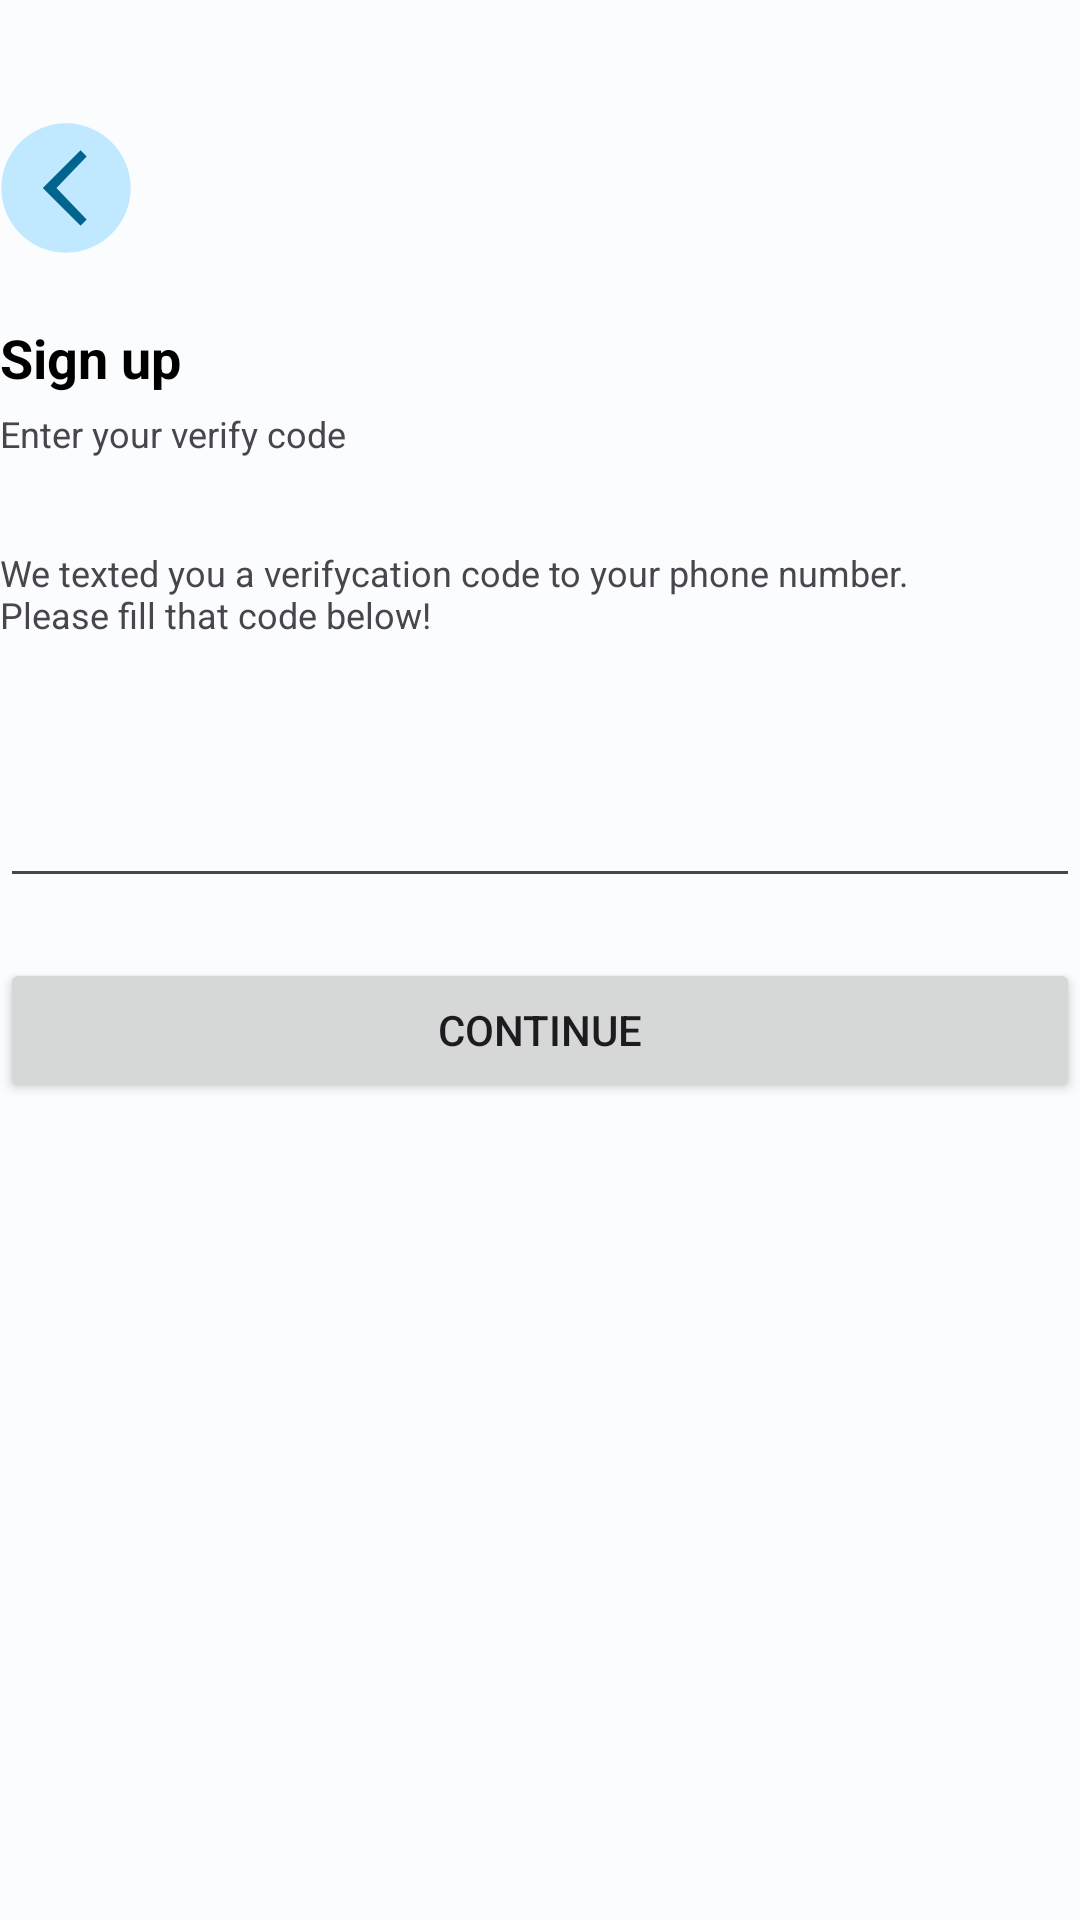

Icons on this 1080w x 1920h Android screen, each with its box as bbox(x1, y1, x2, y2):
Back: bbox(1, 123, 131, 253)
